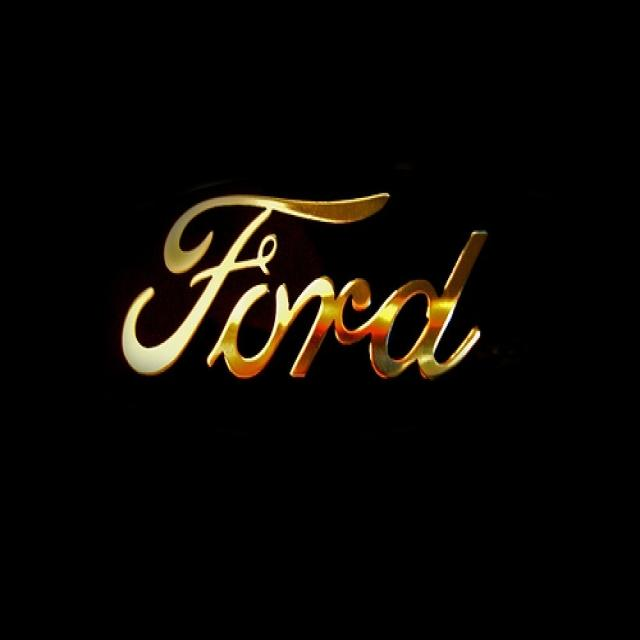ford: (114, 175, 509, 399)
